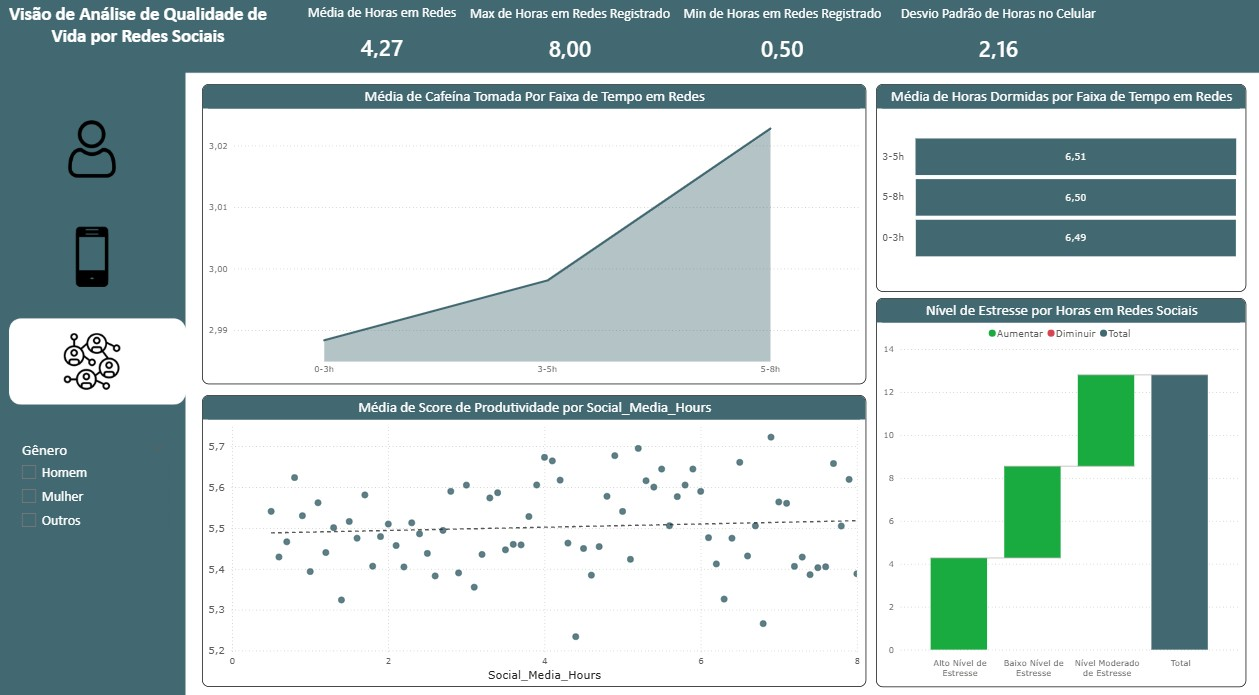

Layout of this report page (visuals, bound fields, positions):
{"tool":"powerbi","page":{"name":"Visão Redes Sociais","canvas":[1800,1000],"ordinal":2},"visuals":[{"type":"textbox","box":[0,0,394.3,107.1],"z":0},{"type":"slicer","fields":{"Values":["Smartphone_Usage_Productivity_Dataset_50000.Gender"]},"box":[18.6,625.7,227.1,374.3],"z":1000},{"type":"waterfallChart","title":"Nível de Estresse por Horas em Redes Sociais","fields":{"Y":["Avg(Smartphone_Usage_Productivity_Dataset_50000.Social_Media_Hours)"],"Category":["Smartphone_Usage_Productivity_Dataset_50000.Nivel_Estresse"]},"box":[1251.4,427.1,528.6,555.7],"z":2000},{"type":"actionButton","box":[81.7,165,96.7,103.3],"z":3000},{"type":"actionButton","box":[85,321.7,95,105],"z":4000},{"type":"scatterChart","fields":{"Y":["Avg(Smartphone_Usage_Productivity_Dataset_50000.Work_Productivity_Score)"],"X":["Smartphone_Usage_Productivity_Dataset_50000.Social_Media_Hours"]},"box":[288.6,565.7,948.6,417.1],"z":5000},{"type":"funnel","title":"Média de Horas Dormidas por Faixa de Tempo em Redes","fields":{"Y":["Avg(Smartphone_Usage_Productivity_Dataset_50000.Sleep_Hours)"],"Category":["Smartphone_Usage_Productivity_Dataset_50000.Faixa_tempo_Redes"]},"box":[1251.4,121.4,528.6,297.1],"z":6000},{"type":"areaChart","title":"Média de Cafeína Tomada Por Faixa de Tempo em Redes","fields":{"Category":["Smartphone_Usage_Productivity_Dataset_50000.Faixa_tempo_Redes"],"Y":["Avg(Smartphone_Usage_Productivity_Dataset_50000.Caffeine_Intake_Cups)"]},"box":[288.6,121.4,948.6,428.6],"z":7000},{"type":"cardVisual","title":"Média de Horas em Redes","fields":{"Data":["Avg(Smartphone_Usage_Productivity_Dataset_50000.Social_Media_Hours)"]},"box":[427.1,7.1,237.1,94.3],"z":8000},{"type":"cardVisual","title":"Max de Horas em Redes Registrado","fields":{"Data":["Max(Smartphone_Usage_Productivity_Dataset_50000.Social_Media_Hours)"]},"box":[664.3,8.6,300,94.3],"z":9000},{"type":"cardVisual","title":"Min de Horas em Redes Registrado","fields":{"Data":["Min(Smartphone_Usage_Productivity_Dataset_50000.Social_Media_Hours)"]},"box":[964.3,8.6,307.1,94.3],"z":10000},{"type":"cardVisual","title":"Desvio Padrão de Horas no Celular","fields":{"Data":["Sum(Smartphone_Usage_Productivity_Dataset_50000.Social_Media_Hours)"]},"box":[1271.4,8.6,310,94.3],"z":11000}]}

Visuals, with their boxes in screenshot pixels (x1, y1, x2, y2), scaled from the page's 1800x1000 canvas onto the 1259x695 screenshot:
textbox: 0/0/276/74
slicer - Smartphone_Usage_Productivity_Dataset_50000.Gender: 13/435/172/694
"Nível de Estresse por Horas em Redes Sociais" waterfallChart: 875/297/1245/683
actionButton: 57/115/125/186
actionButton: 59/224/126/297
scatterChart - Avg(Smartphone_Usage_Productivity_Dataset_50000.Work_Productivity_Score) x Smartphone_Usage_Productivity_Dataset_50000.Social_Media_Hours: 202/393/865/683
"Média de Horas Dormidas por Faixa de Tempo em Redes" funnel: 875/84/1245/291
"Média de Cafeína Tomada Por Faixa de Tempo em Redes" areaChart: 202/84/865/382
"Média de Horas em Redes" cardVisual: 299/5/465/70
"Max de Horas em Redes Registrado" cardVisual: 465/6/674/72
"Min de Horas em Redes Registrado" cardVisual: 674/6/889/72
"Desvio Padrão de Horas no Celular" cardVisual: 889/6/1106/72
